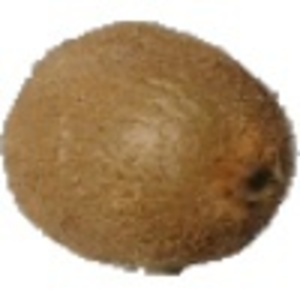kiwi: (1, 18, 300, 278)
